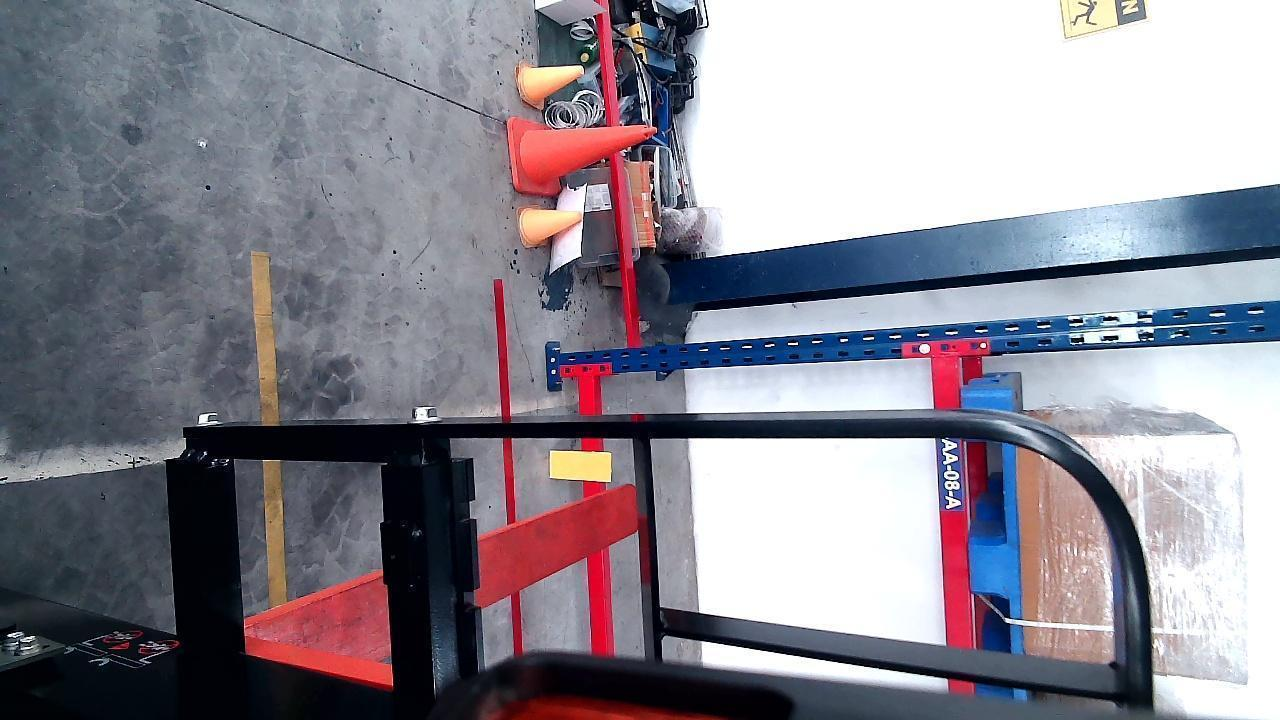red_line: (490, 270, 525, 651)
yellow_line: (252, 244, 284, 609)
